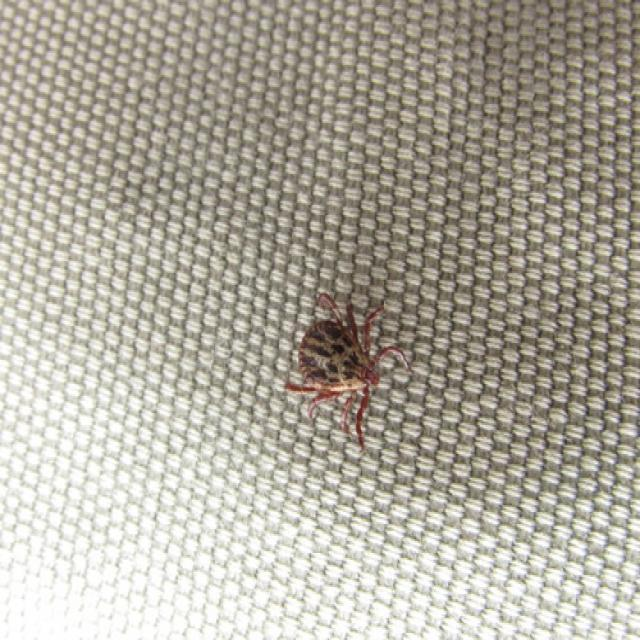Dermacentor Reticulatus-M: (285, 292, 410, 451)
